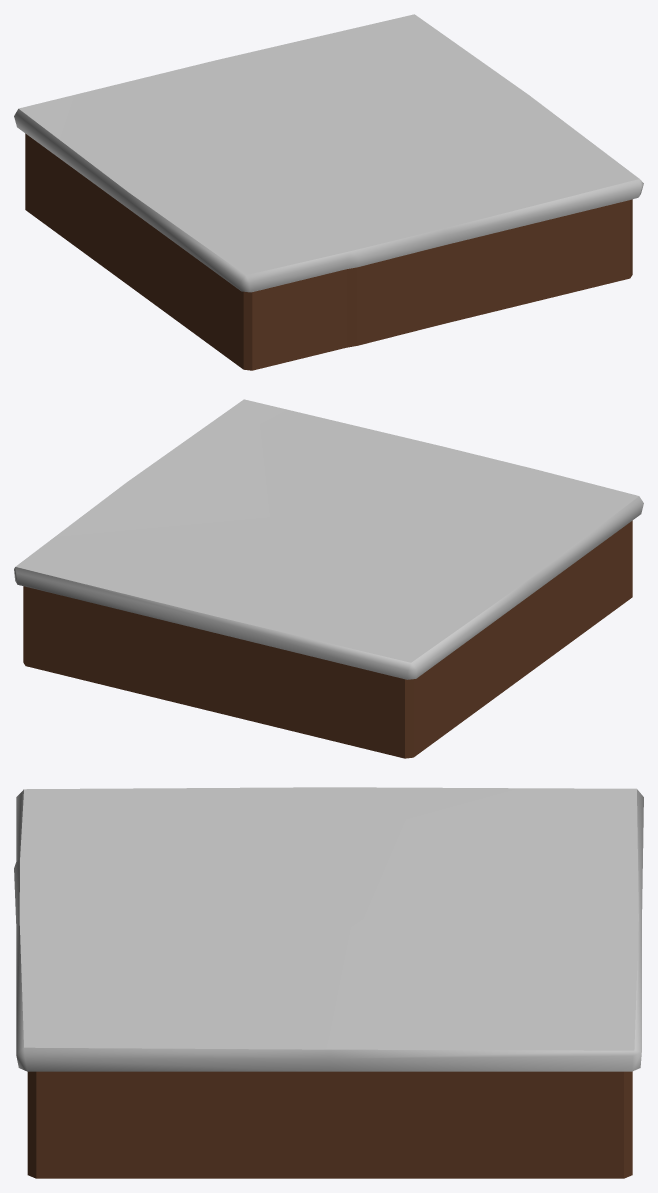
Rendered from scenes_tese_01.FBX.
3 renders of one model, top to bottom at view 1: azimuth 30°, elevation 25°; view 2: azimuth 150°, elevation 25°; view 3: azimuth 270°, elevation 25°, orthographic. The views are drawn at different scales.
Parts seen in each view (by area): view 1: Box001, Object001; view 2: Box001, Object001; view 3: Box001, Object001.
Boxes of the visible parts, x1,y1,x2,y2 form: Box001: [14, 14, 643, 292]; Object001: [25, 133, 632, 370]; Box001: [14, 399, 643, 679]; Object001: [23, 520, 632, 758]; Box001: [14, 787, 643, 1071]; Object001: [27, 1071, 632, 1178].
Size of the model in its own units: 12 by 2.8 by 12.04.
